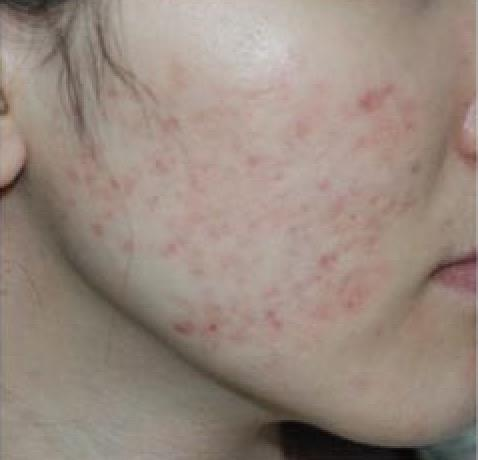fore: (264, 302, 290, 333), (315, 245, 341, 275), (150, 156, 179, 182), (393, 113, 423, 138), (380, 192, 405, 222), (169, 314, 195, 341), (160, 112, 187, 135), (62, 162, 83, 190), (105, 78, 125, 105), (218, 252, 241, 275), (245, 150, 268, 172), (313, 173, 335, 193), (356, 91, 372, 118), (342, 297, 366, 315), (202, 316, 223, 336), (89, 218, 109, 239), (159, 239, 184, 254), (86, 163, 99, 190), (376, 84, 399, 99), (105, 171, 117, 189)
